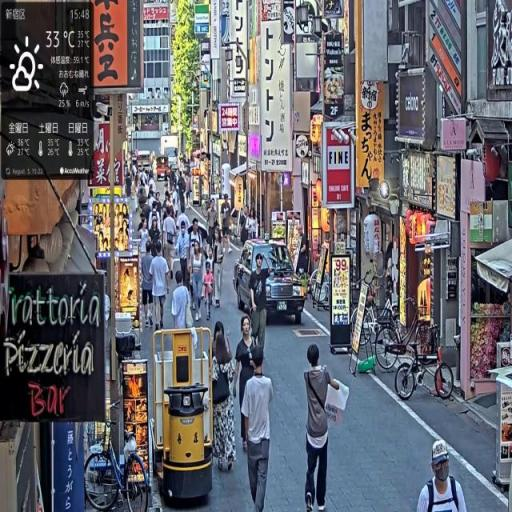person: (304, 343, 348, 512), (242, 346, 275, 512), (418, 441, 468, 512), (234, 318, 260, 451), (249, 252, 269, 360), (151, 243, 171, 337), (171, 271, 197, 332), (141, 244, 156, 331), (190, 240, 207, 315), (163, 207, 178, 284), (177, 220, 191, 290), (221, 194, 233, 255)
